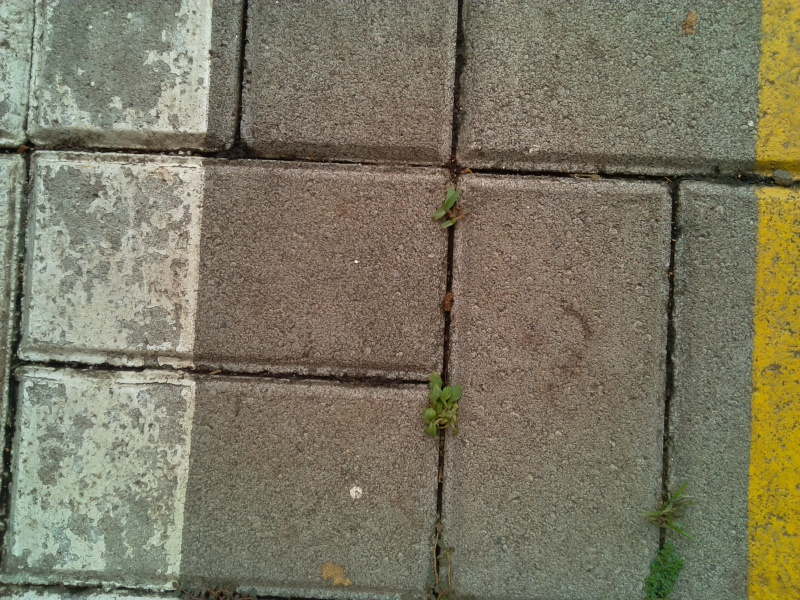Weed: (419, 518, 472, 600), (417, 368, 469, 440), (641, 481, 697, 545), (633, 545, 697, 599), (426, 183, 472, 230)
